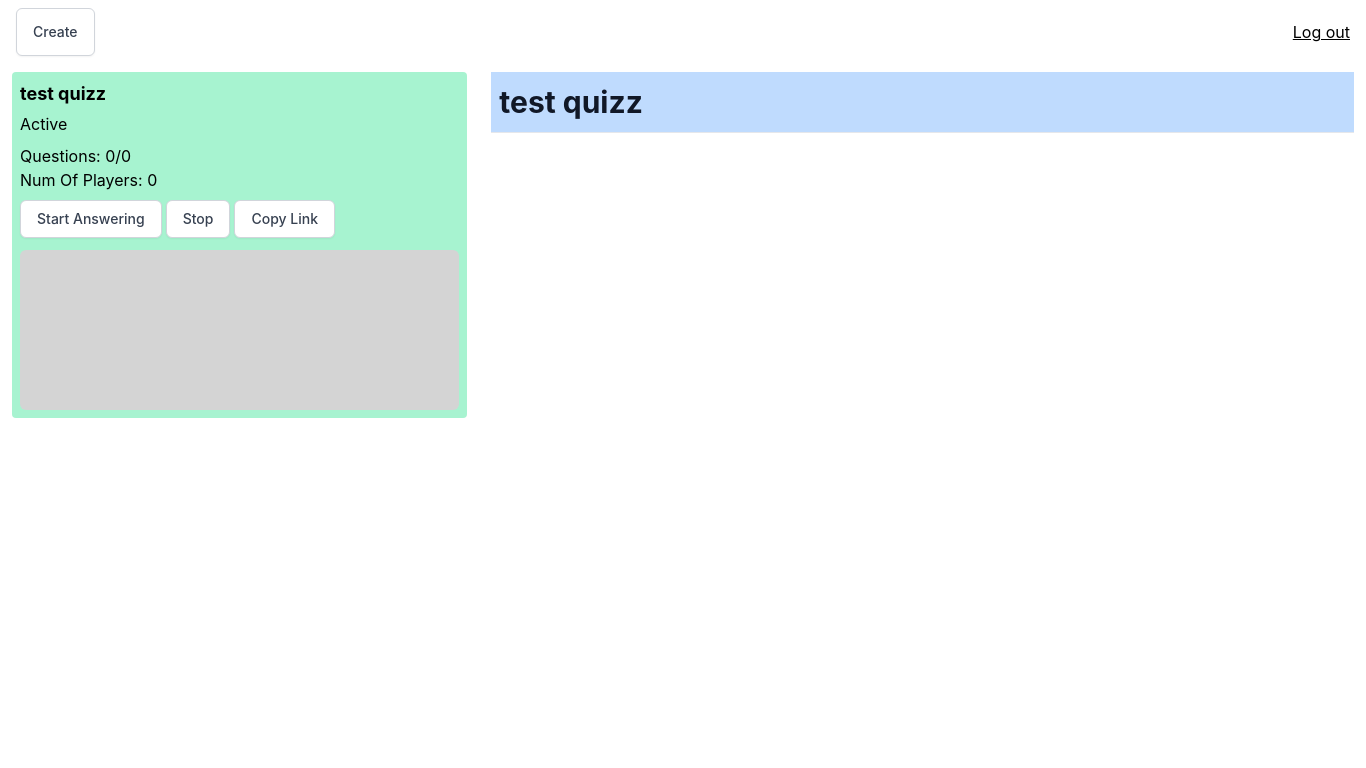
dashboard › Ends a game & Loads the results page
Click the button "Start Answering" at (91, 219), box [20,200,162,238]
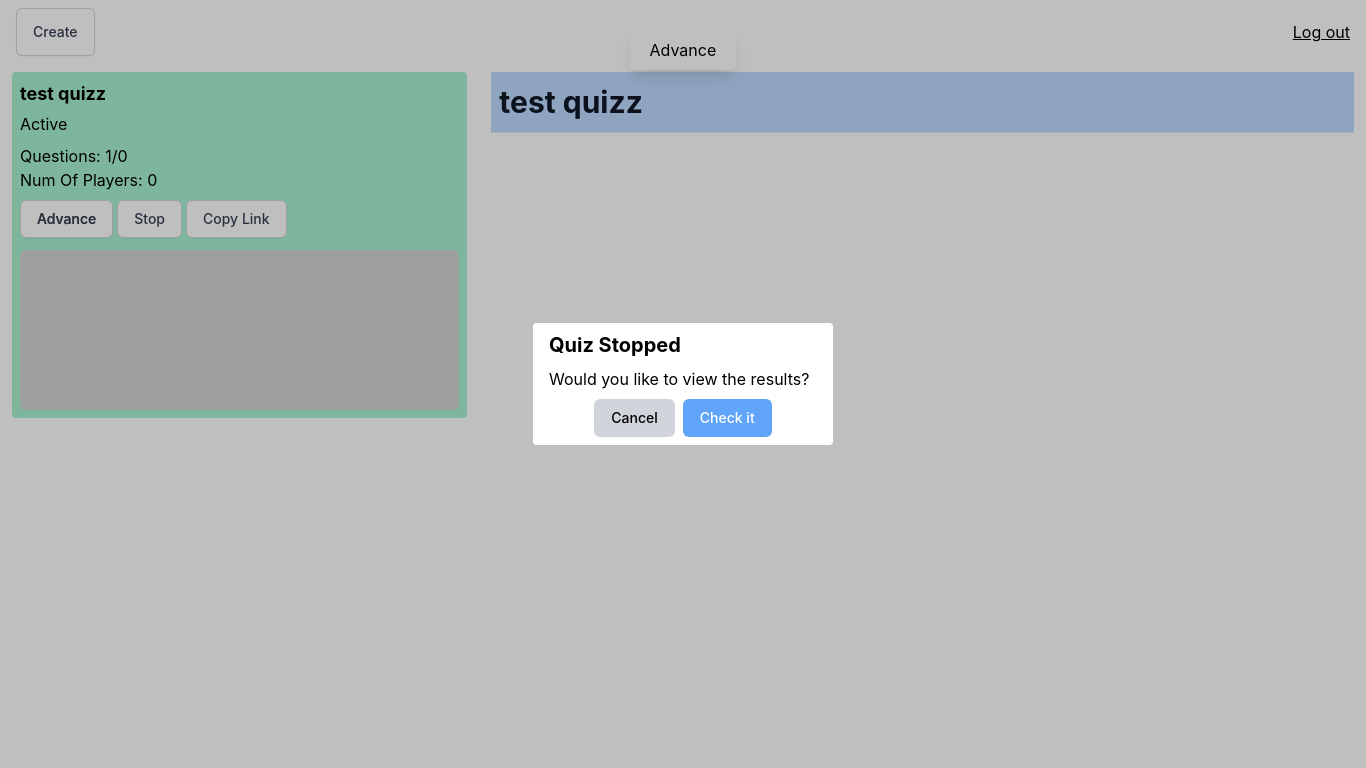
Expected: the text "Would you like to view the results?" is shown, [549,367,817,391]
Click the button "Check it" at (727, 418), box [683,399,772,437]
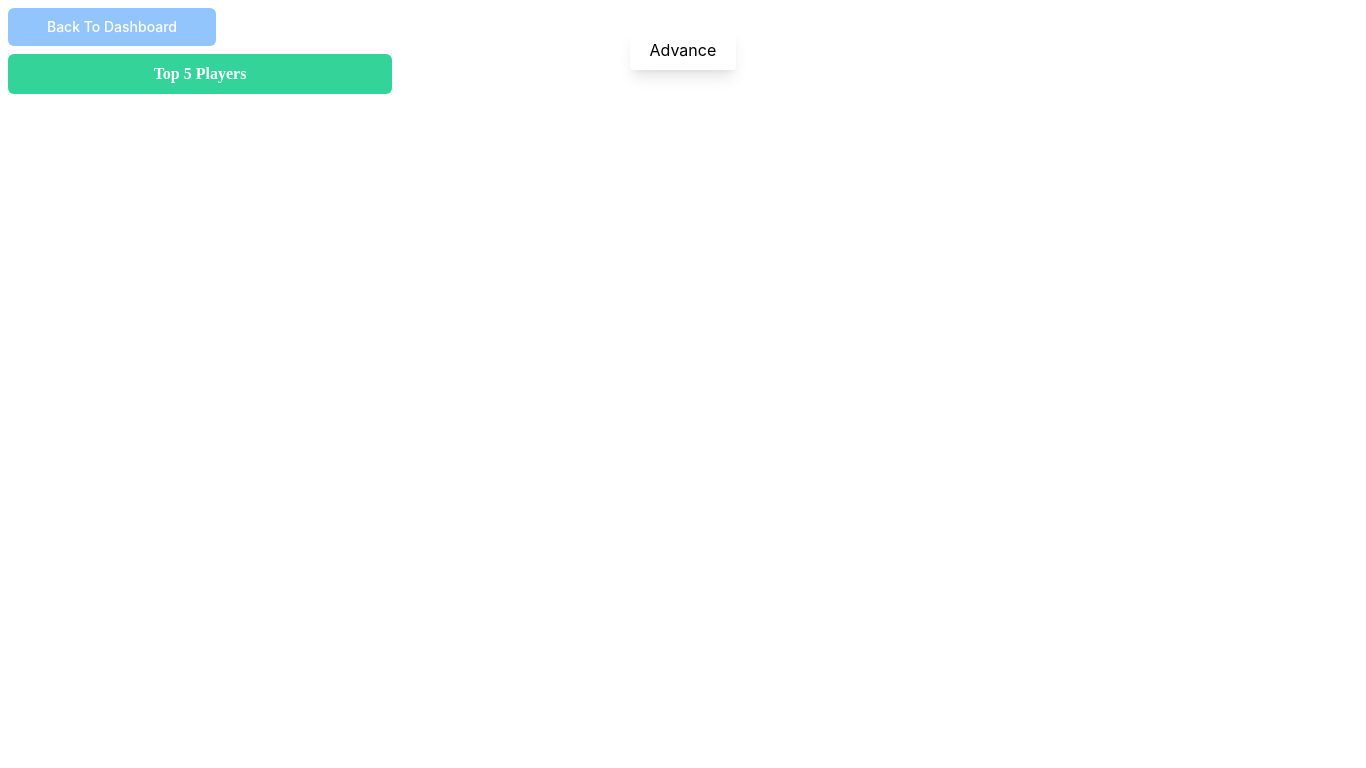
Expected: the link "Back To Dashboard" is shown, [8,8,216,46]
